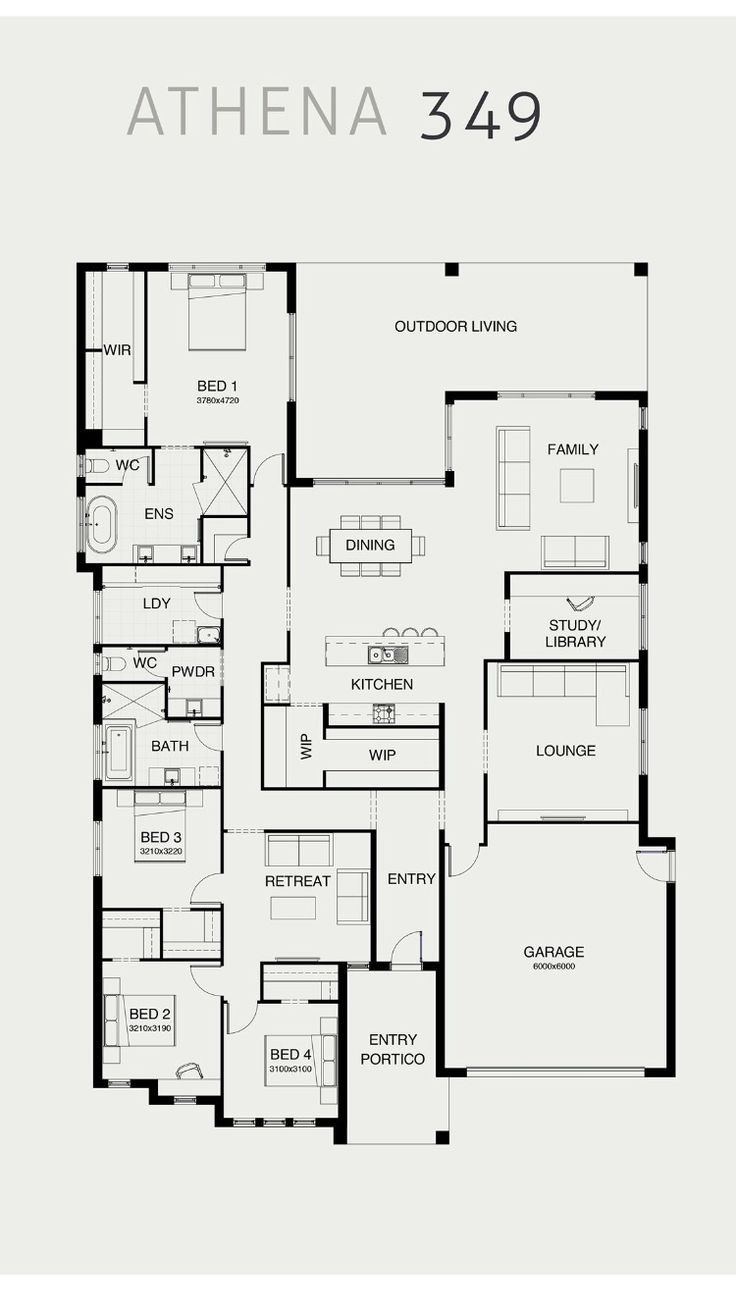door: (445, 833, 509, 889), (630, 836, 680, 897), (251, 441, 298, 497), (378, 923, 431, 972), (176, 861, 230, 907), (187, 716, 230, 764), (188, 587, 231, 632), (109, 447, 157, 487), (224, 1004, 274, 1041), (182, 960, 224, 1004)
room: (432, 819, 680, 1079), (294, 491, 487, 789), (442, 393, 646, 582), (80, 266, 288, 446), (485, 672, 641, 822), (81, 443, 256, 568), (103, 912, 217, 1103), (227, 829, 376, 968), (226, 962, 331, 1132), (99, 783, 226, 914), (502, 568, 652, 668), (107, 687, 232, 783), (96, 571, 228, 644)
wall: (431, 826, 457, 1089), (652, 880, 685, 1086), (69, 255, 95, 454), (85, 876, 106, 1100), (498, 558, 645, 586), (331, 960, 352, 1155), (317, 715, 449, 743), (257, 780, 455, 798), (630, 775, 676, 847), (209, 758, 237, 875), (102, 779, 224, 805), (473, 815, 649, 833), (631, 429, 657, 543), (251, 646, 271, 794), (281, 400, 313, 491), (264, 257, 305, 314), (130, 1072, 173, 1121), (434, 698, 453, 803), (471, 773, 502, 837), (630, 646, 660, 708), (595, 383, 656, 411), (84, 676, 114, 726), (431, 385, 502, 405), (196, 1093, 234, 1129), (134, 251, 167, 286), (76, 554, 103, 593), (85, 776, 107, 823)
window: (462, 1054, 649, 1087), (495, 378, 599, 419), (167, 251, 276, 287), (277, 307, 309, 401), (78, 589, 120, 644), (634, 707, 662, 779), (467, 732, 505, 780), (82, 816, 109, 872), (278, 587, 310, 633), (201, 646, 237, 686), (82, 721, 106, 779), (442, 403, 459, 476), (69, 497, 89, 558), (103, 1071, 137, 1104), (80, 653, 112, 682), (231, 1111, 257, 1137), (291, 1111, 316, 1136), (263, 1114, 287, 1140), (174, 1087, 198, 1112), (105, 258, 132, 273), (74, 453, 85, 478)
